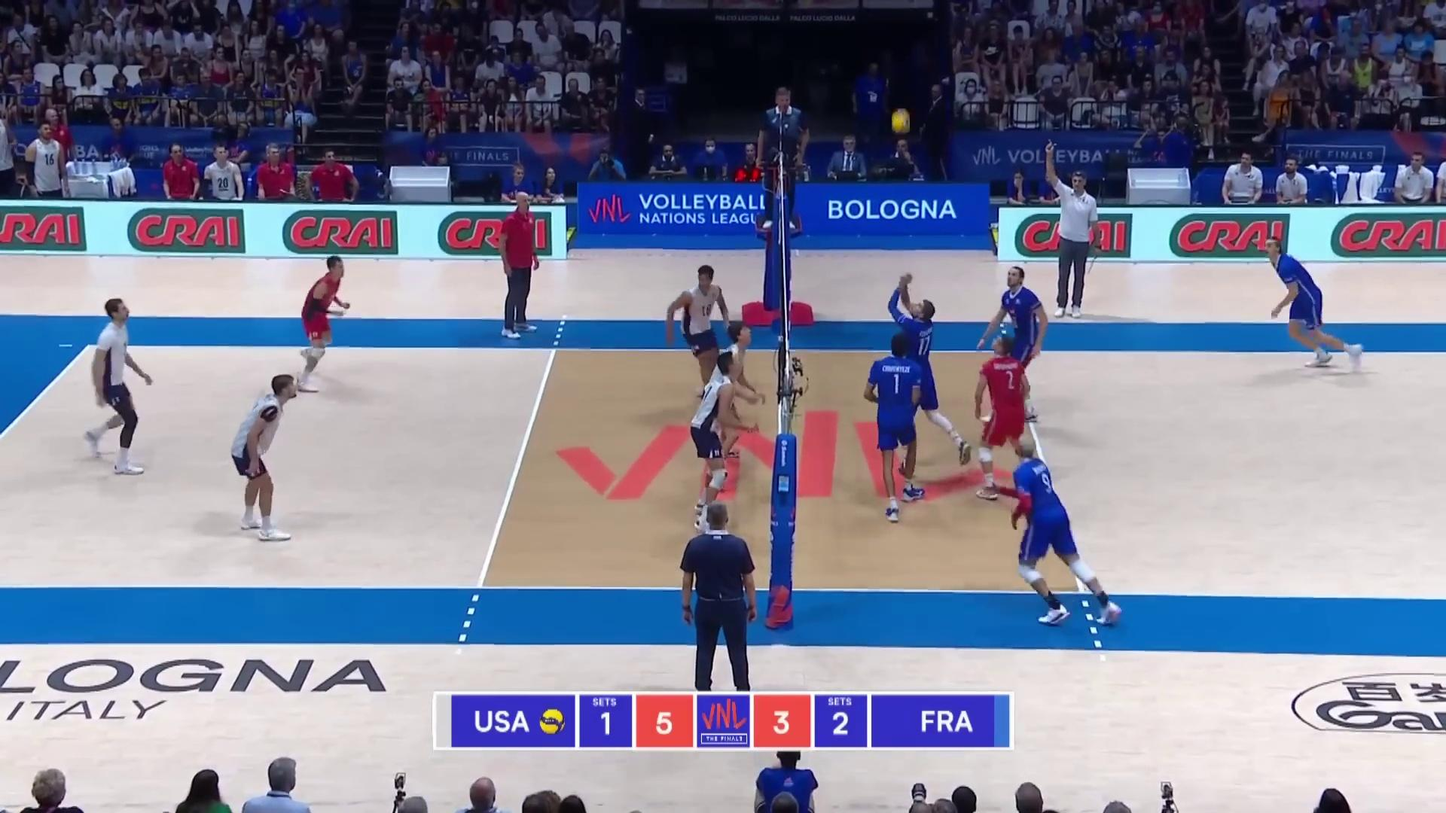player: (1002, 436, 1113, 634), (883, 273, 973, 481), (856, 335, 932, 521), (1264, 242, 1361, 375), (961, 334, 1034, 510), (967, 268, 1044, 434), (663, 264, 736, 428), (236, 375, 307, 542), (698, 321, 767, 491), (92, 301, 159, 471), (684, 354, 750, 516), (297, 262, 353, 393)
refree: (676, 500, 757, 688), (761, 88, 810, 228)
